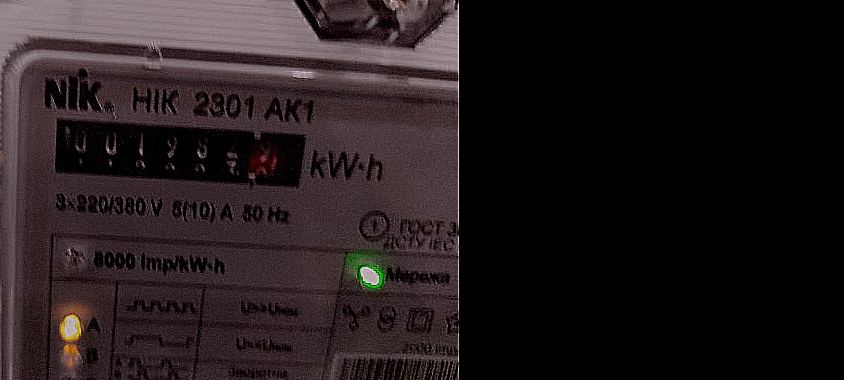0: (102, 127, 119, 156), (72, 124, 88, 153)
1: (134, 127, 146, 156)
2: (224, 130, 242, 159)
8: (194, 131, 210, 159)
9: (255, 136, 275, 164), (163, 130, 178, 159)
screen: (38, 104, 319, 200)
